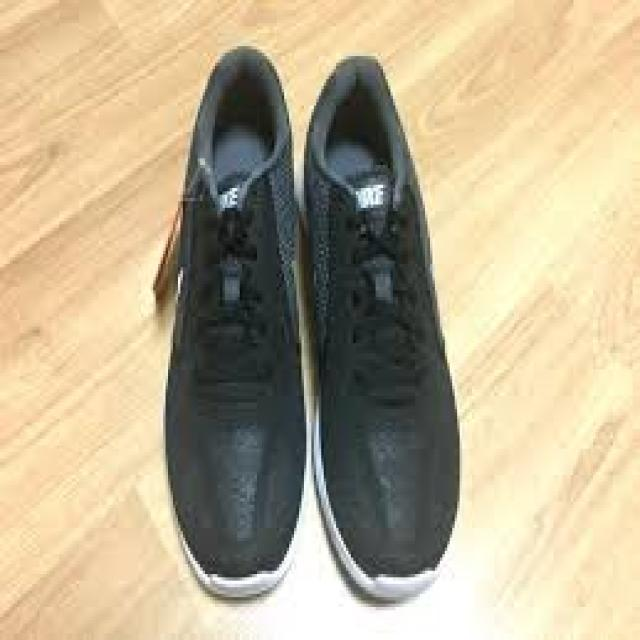shoe: (306, 56, 465, 607), (163, 46, 306, 600)
